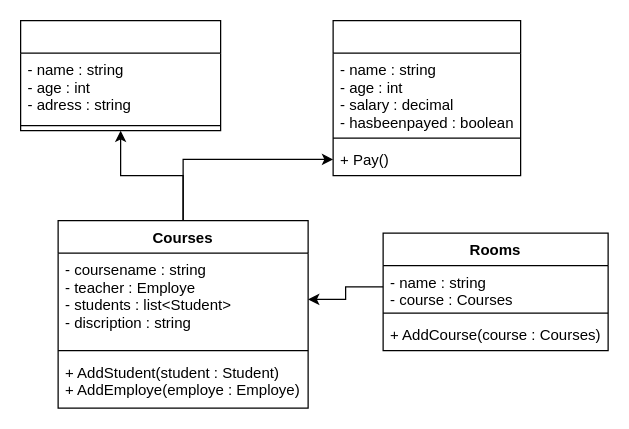
This 629x429 diagram has some shape labels left out. The box of each missing label's shape, as (x1, y1, x2, y2) in pixels:
Employe: (332, 19, 521, 176)
Student: (19, 19, 221, 131)
